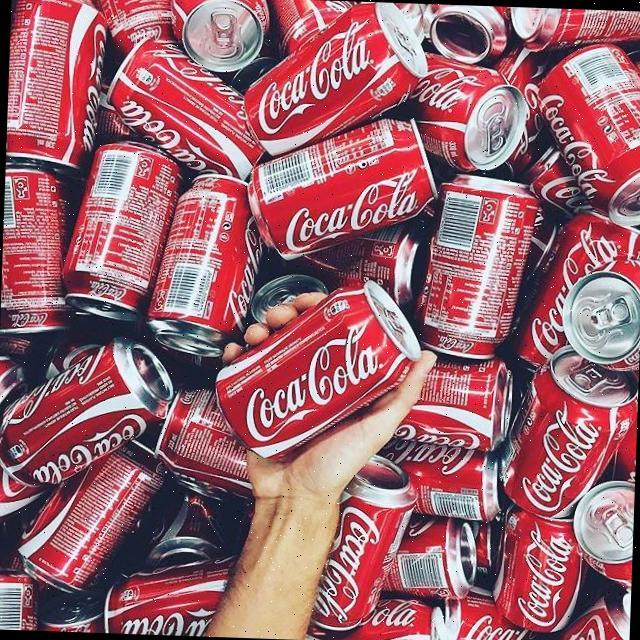coca-cola: (211, 274, 422, 468), (248, 114, 437, 266), (244, 0, 418, 155), (2, 340, 164, 490), (111, 35, 260, 179), (504, 348, 619, 521), (304, 459, 415, 634), (538, 40, 640, 225), (405, 60, 526, 170), (498, 504, 589, 633), (376, 439, 501, 514), (104, 573, 244, 638)
